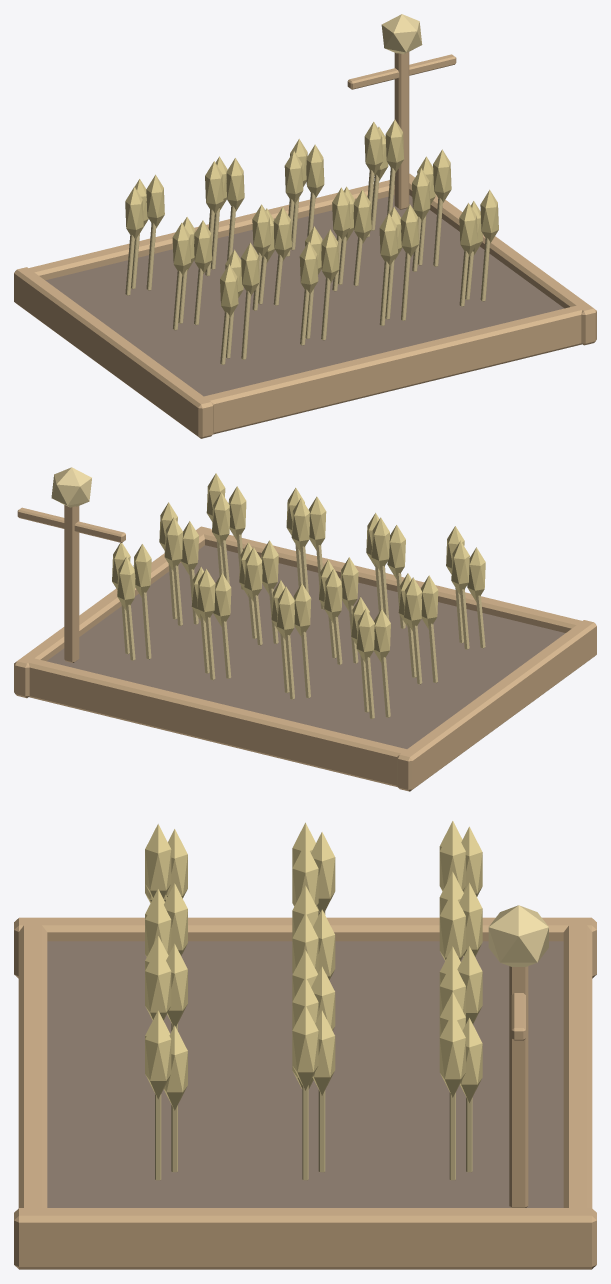
The model's file is field.fbx.
3 views of the same model, one above another, from view 1: azimuth 30°, elevation 25°; view 2: azimuth 150°, elevation 25°; view 3: azimuth 270°, elevation 25° (orthographic). The views are drawn at different scales.
Parts seen in each view (by area): view 1: field_mesh; view 2: field_mesh; view 3: field_mesh.
Part boxes in pixels (<box>): field_mesh: <box>14,14,596,438</box>; field_mesh: <box>14,467,596,791</box>; field_mesh: <box>14,821,596,1269</box>.
Bounding box in the file's own units: 3.16 × 1.6 × 2.46.
